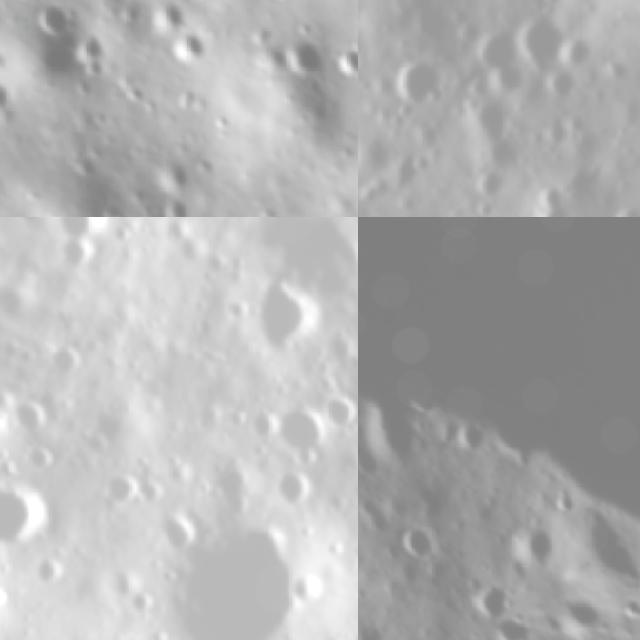crater: (146, 503, 333, 640), (240, 269, 338, 368), (375, 32, 467, 120), (501, 507, 577, 583), (264, 398, 336, 467), (0, 472, 58, 554), (198, 452, 262, 525), (388, 510, 452, 576), (458, 160, 518, 215), (0, 386, 60, 440), (443, 412, 498, 468), (149, 502, 205, 556), (92, 465, 148, 519), (470, 577, 524, 630), (537, 59, 591, 108), (358, 418, 390, 499), (29, 548, 76, 600), (268, 465, 321, 511), (313, 385, 358, 439), (42, 334, 92, 382), (0, 273, 42, 327), (53, 236, 98, 280), (17, 434, 61, 479), (284, 29, 326, 76), (186, 393, 228, 438), (72, 423, 112, 464), (32, 0, 75, 37), (170, 27, 212, 62), (55, 217, 109, 244), (151, 153, 190, 190), (119, 585, 158, 622), (68, 26, 110, 59), (358, 609, 401, 640), (220, 399, 252, 440), (328, 34, 358, 77), (146, 0, 184, 30), (160, 191, 194, 217), (4, 217, 58, 232), (81, 53, 112, 78), (242, 18, 274, 40), (122, 80, 148, 102), (0, 72, 9, 110), (0, 43, 7, 74)
